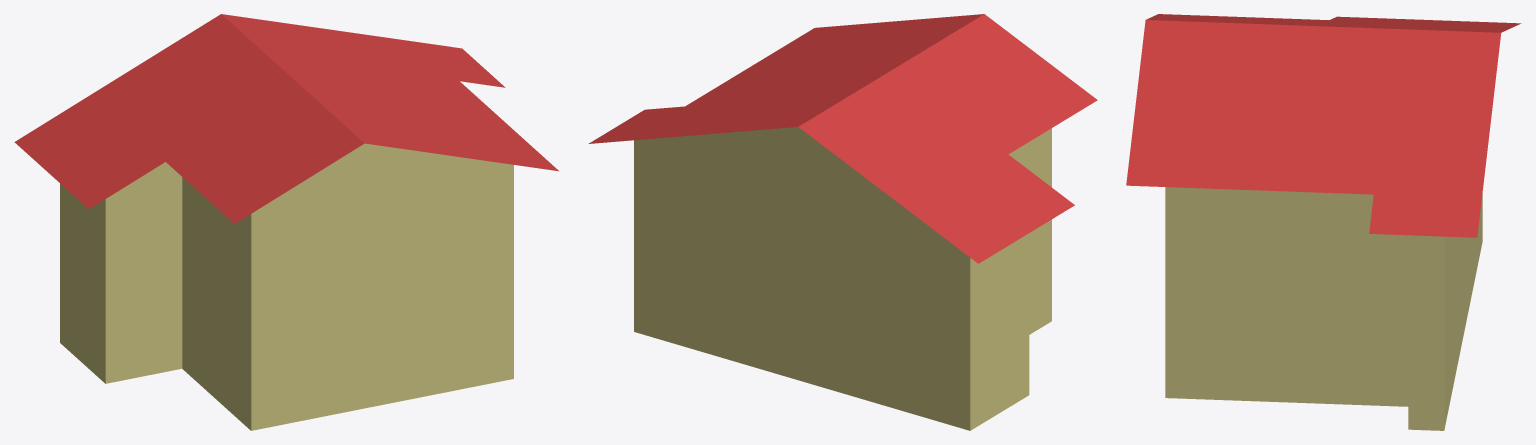
3 views of the same model, side by side, from view 1: azimuth 30°, elevation 25°; view 2: azimuth 150°, elevation 25°; view 3: azimuth 270°, elevation 25° (orthographic). The views are drawn at different scales.
Size of the model in its own units: 14.77 by 10.91 by 9.02.
